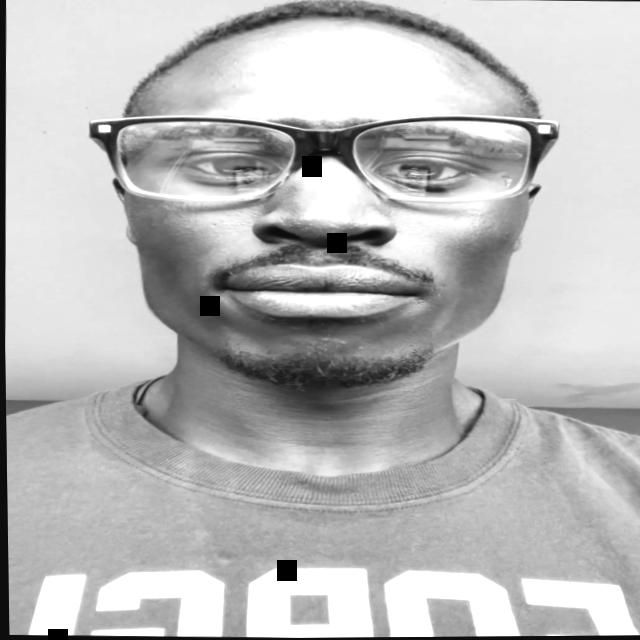NO-Mask: (97, 29, 569, 433)
